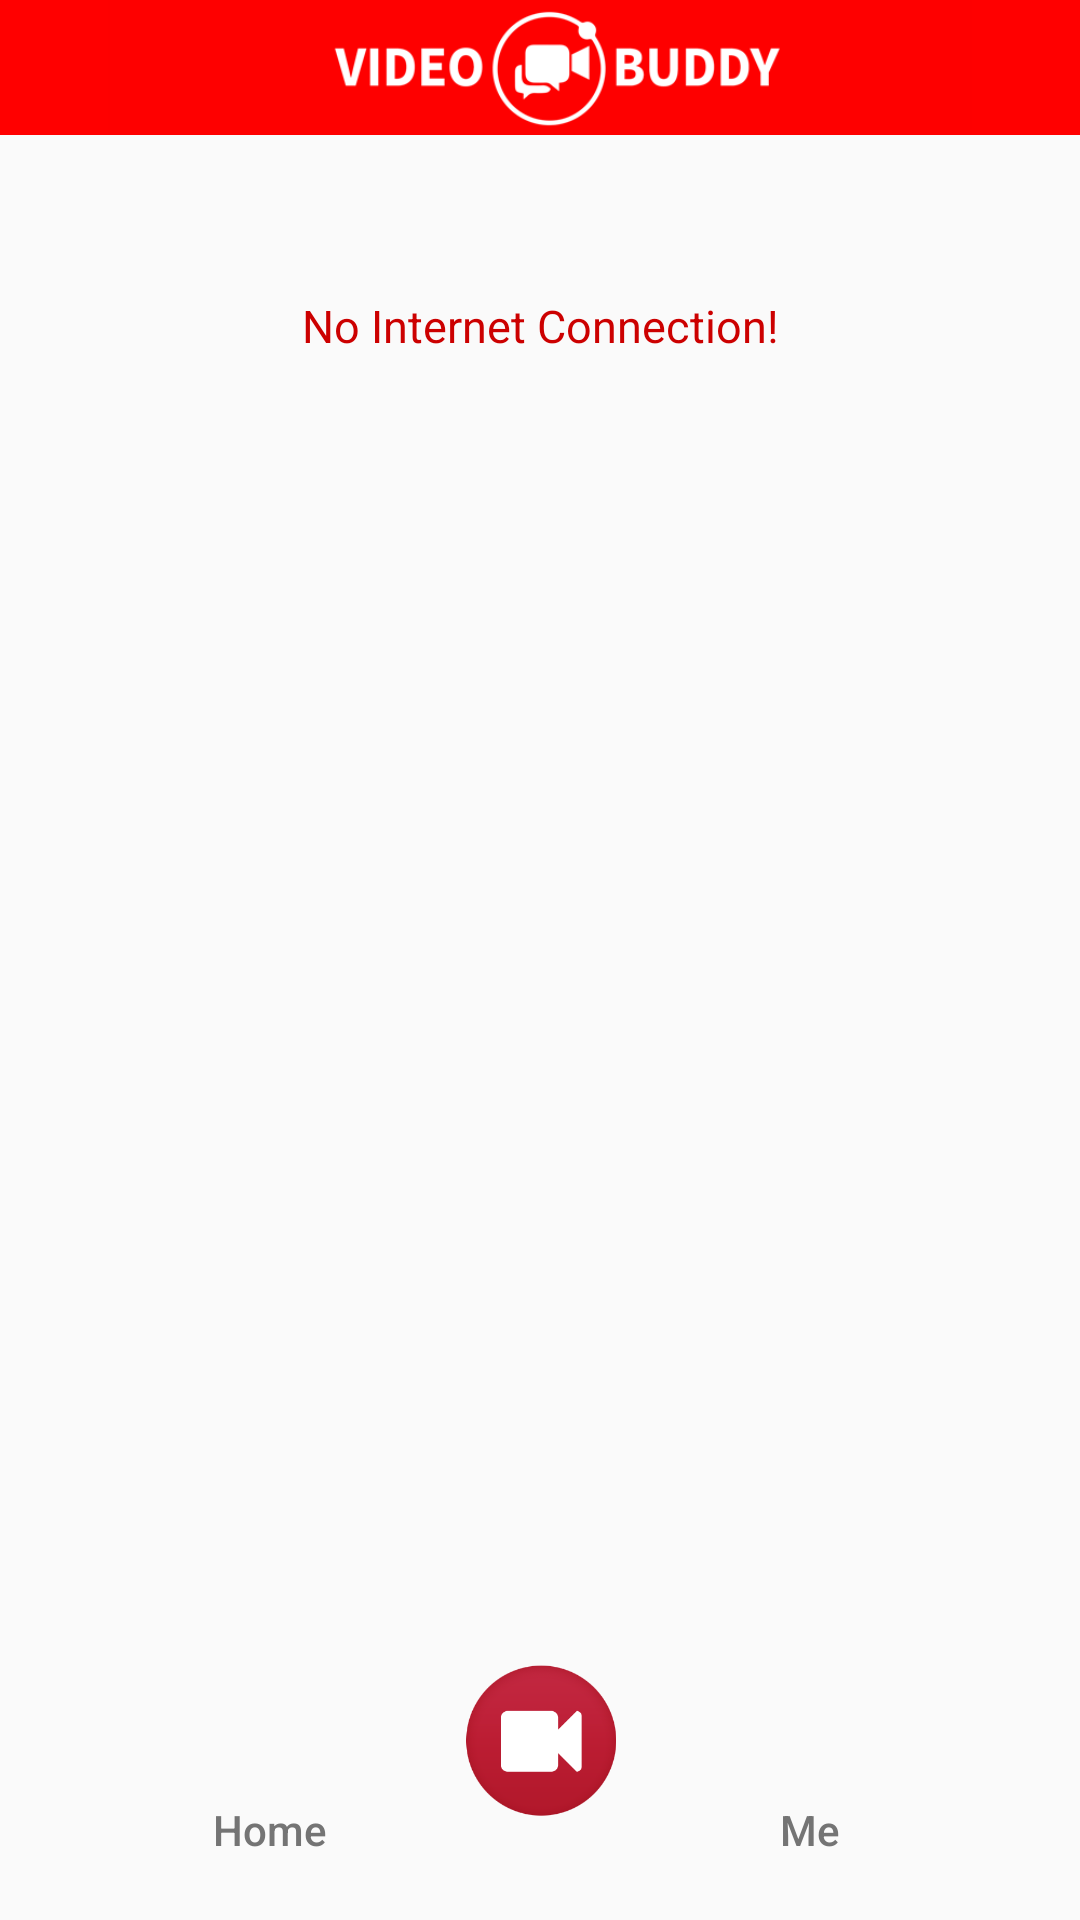

Named icons in this screenshot (1080*1920) and their centers, (x,y):
record: (541,1740)
